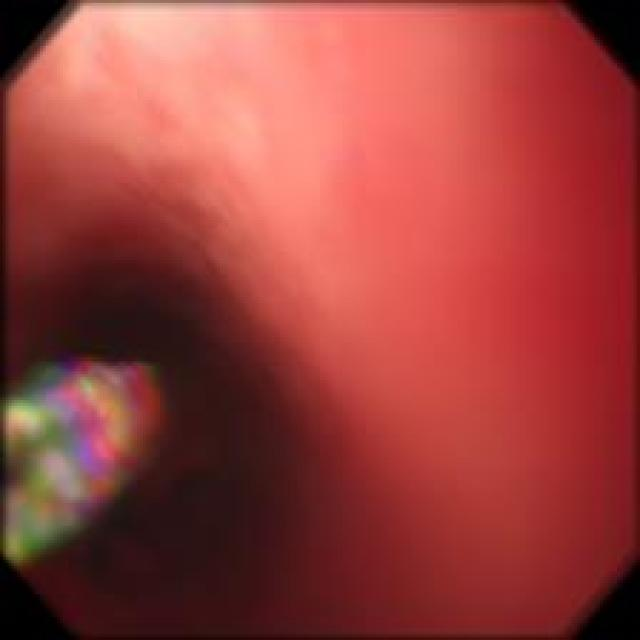blur: (2, 1, 638, 638)
color misalignment: (5, 349, 181, 566)
contrast: (6, 262, 285, 629)
